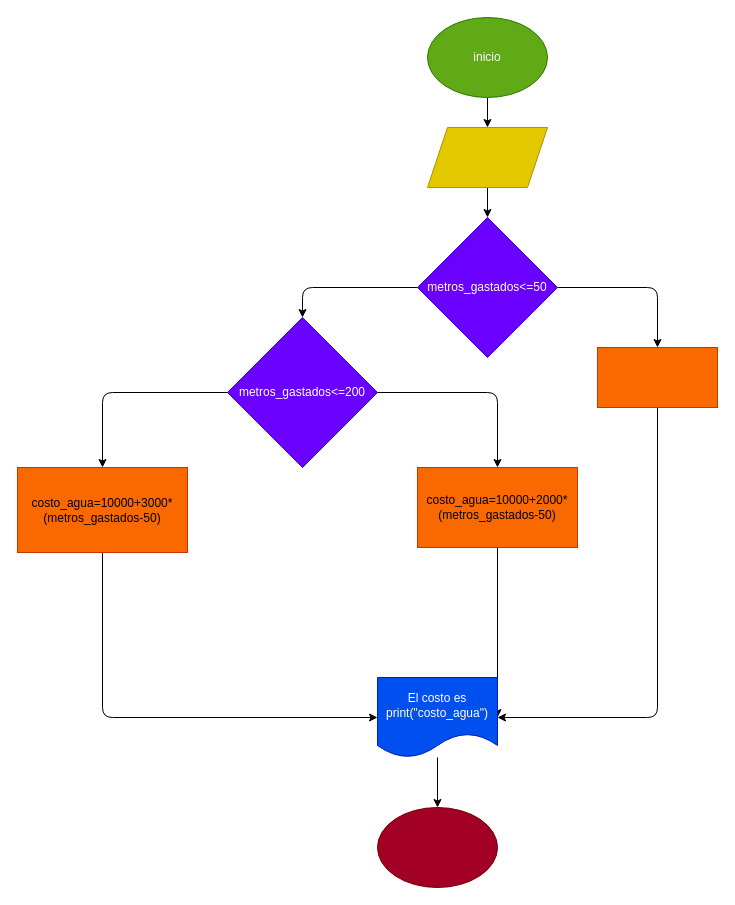
Image size: 735x905. Some labels were removed from this diagram. Each missing label, with the centre of its shape:
"costo_agua = 10000" goes at pixel 657 377.
"fin" goes at pixel 437 847.
"metros_gastados" goes at pixel 487 157.
